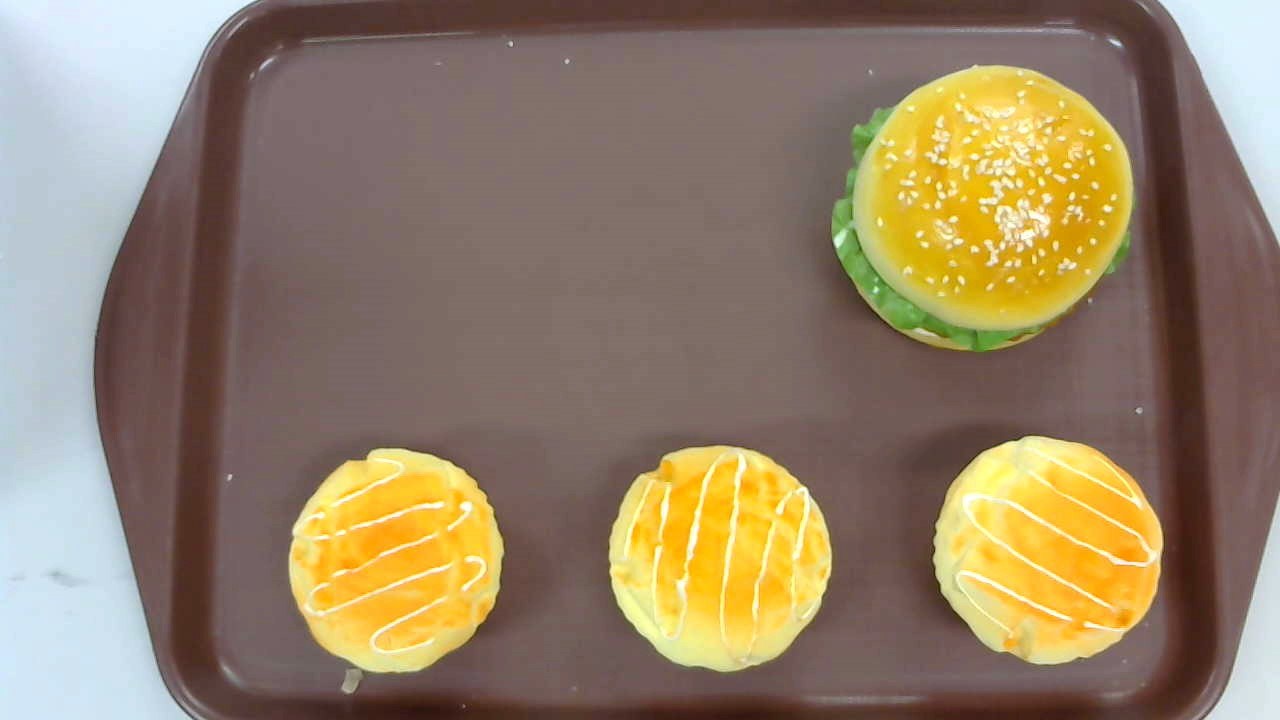cupcake: (932, 436, 1164, 667), (608, 443, 833, 674), (289, 447, 505, 673)
hamburger: (829, 65, 1134, 353)
